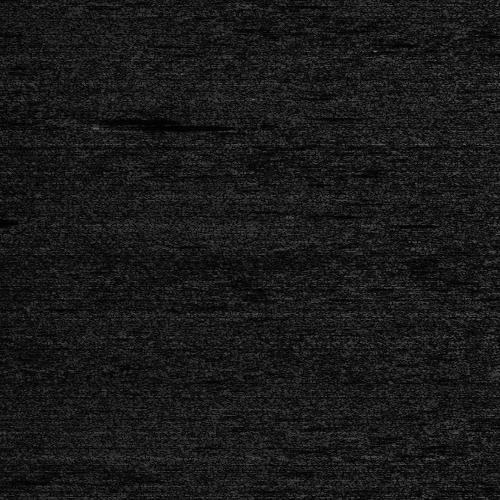rock: (51, 112, 114, 125), (83, 120, 136, 133), (467, 368, 500, 373)
shadow: (83, 112, 222, 125), (110, 120, 204, 133)
